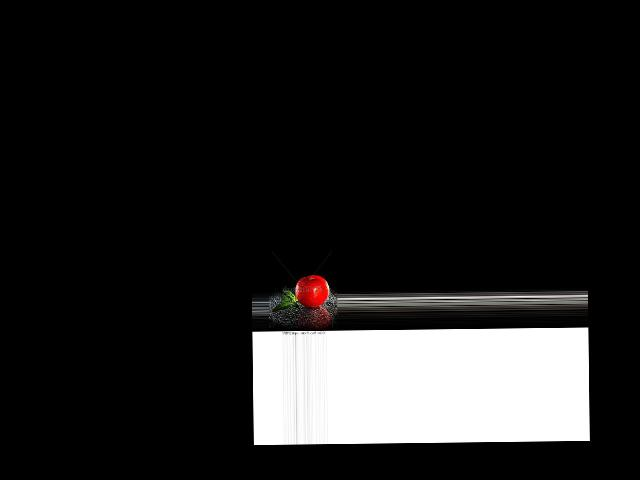tomato: (294, 274, 329, 307)
